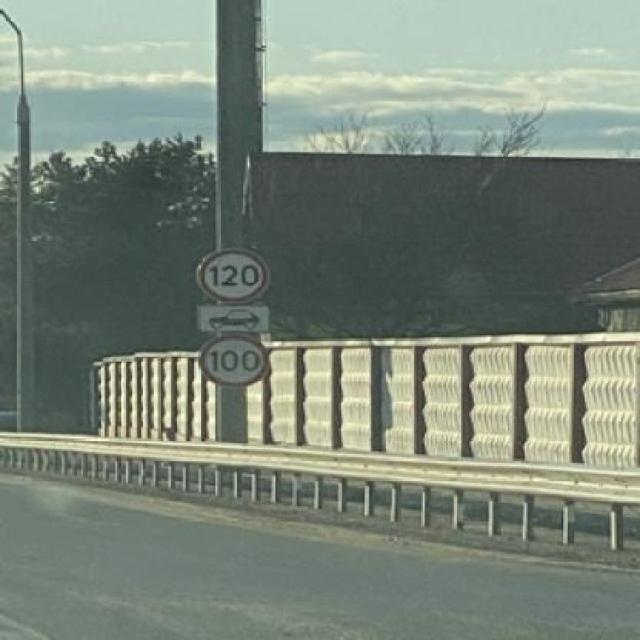forb_speed_over_100: (203, 335, 269, 389)
forb_speed_over_120: (199, 250, 267, 302)
